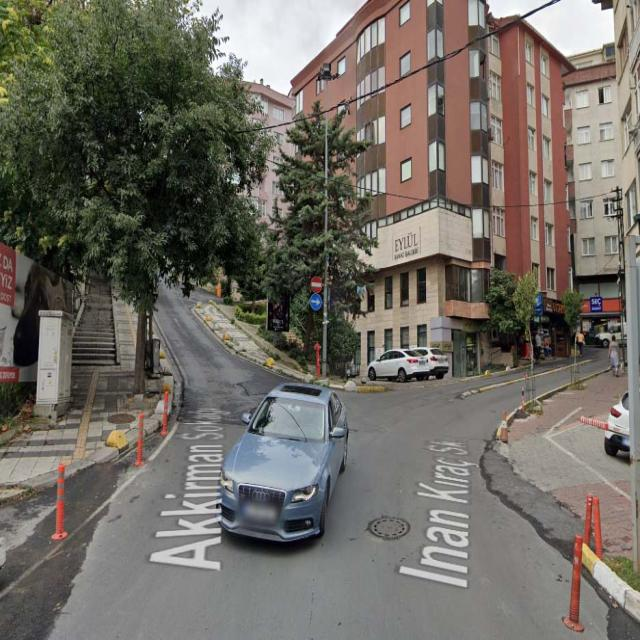girisyok: (310, 276, 322, 294)
sag: (310, 292, 322, 310)
